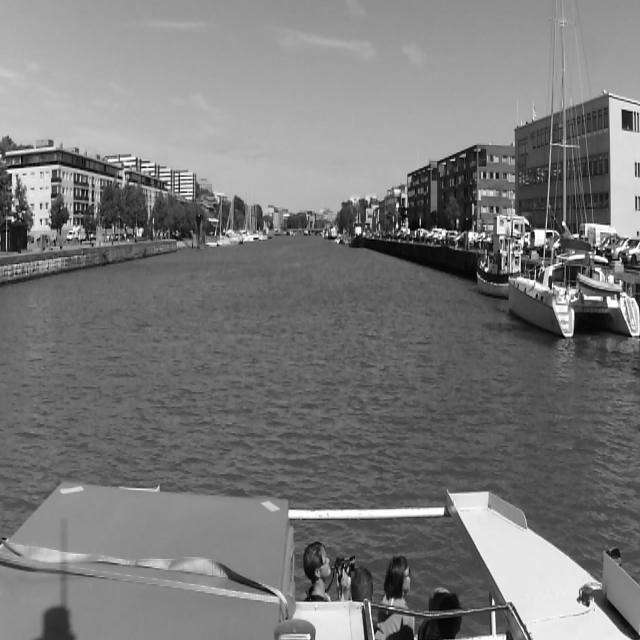ship: (508, 235, 640, 338), (467, 205, 537, 288), (241, 188, 263, 244), (218, 192, 240, 246), (244, 231, 262, 243), (202, 242, 218, 248), (338, 238, 344, 246)
